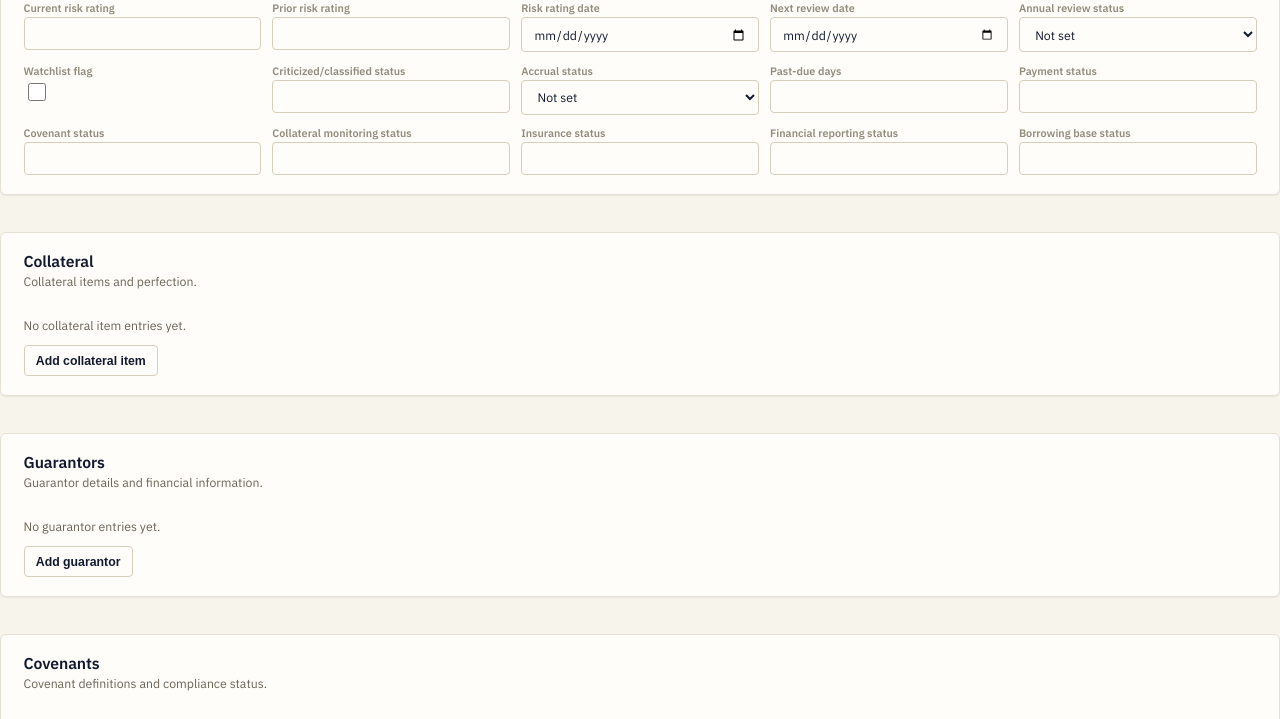
Scenario: PortfolioLoanBoardingForm › adding a collateral item renders an editable item card, and remove clears it
The width and height of the screenshot is (1280, 719).
(page scrolled)
Click the button "Add collateral item" at (91,360), box [24,345,158,376]
(page scrolled)
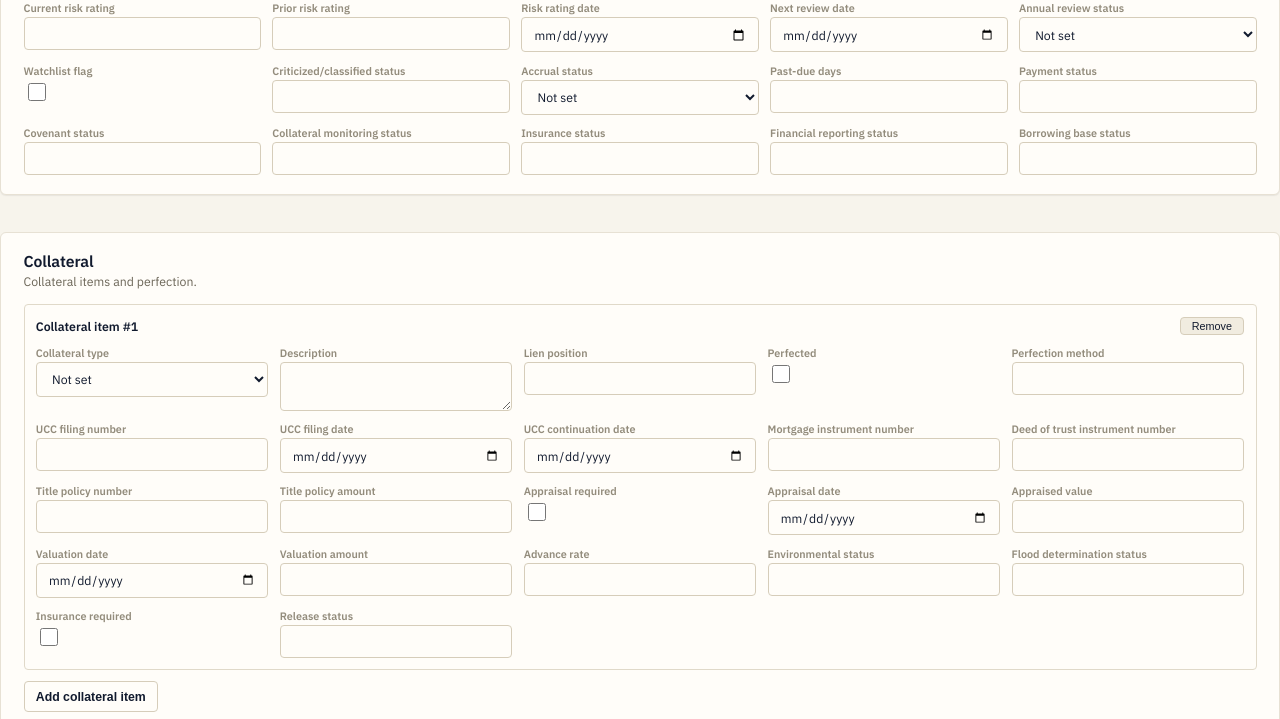
Now the text "Collateral item #1" is shown, box [36,318,138,334]
Click the button "Remove" at (1212,326), box [1180,317,1244,335]
(page scrolled)
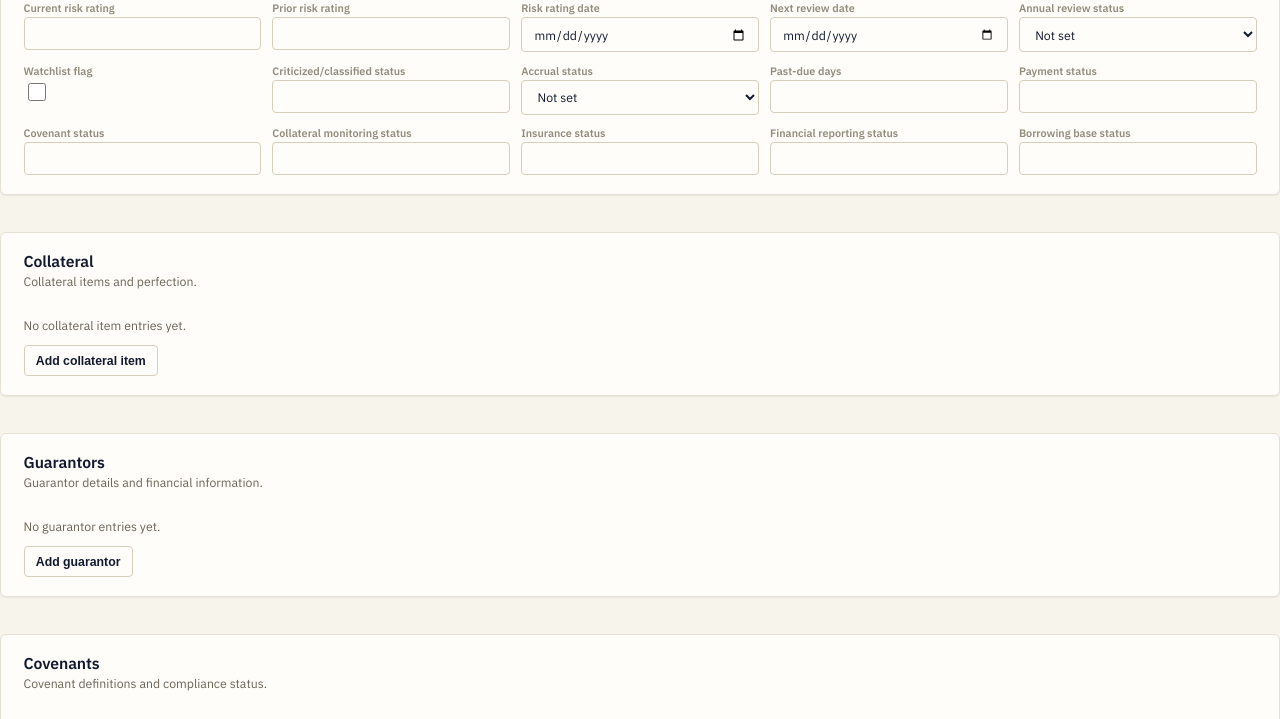
Now the text "Collateral item #1" is gone
